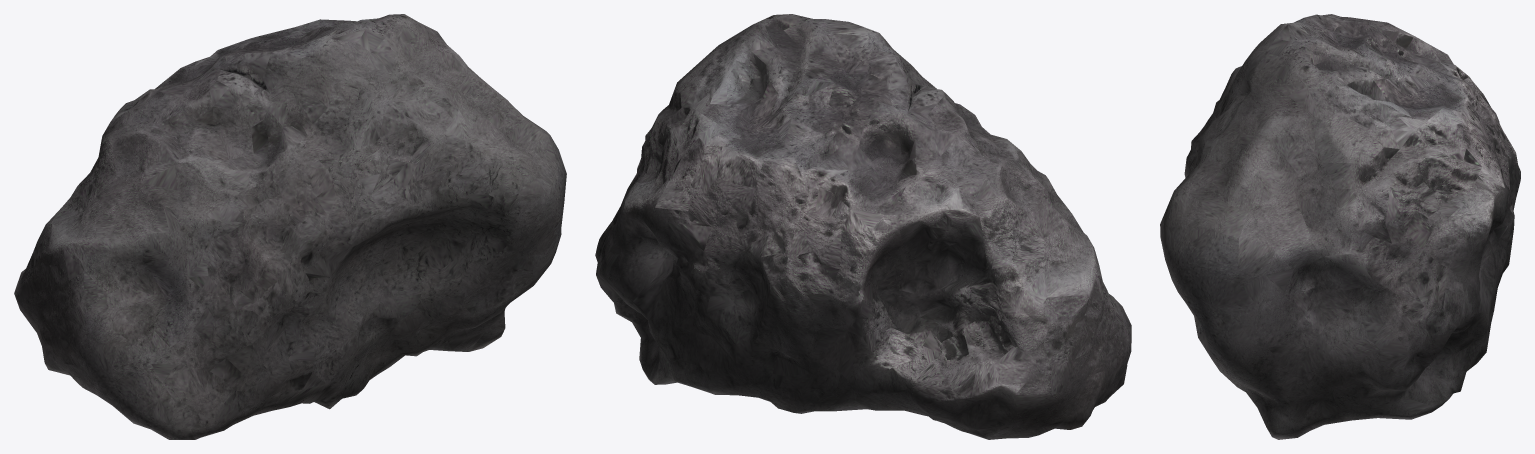
File: RockOre.glb
The picture shows the model from 3 angles, left to right: view 1: azimuth 30°, elevation 25°; view 2: azimuth 150°, elevation 25°; view 3: azimuth 270°, elevation 25°; orthographic projection. The views are drawn at different scales.
Parts seen in each view (by area): view 1: RockOre.001; view 2: RockOre.001; view 3: RockOre.001.
Boxes of the visible parts, x1=… form: RockOre.001: x1=14, y1=14, x2=566, y2=439; RockOre.001: x1=595, y1=14, x2=1131, y2=439; RockOre.001: x1=1160, y1=14, x2=1520, y2=439.
Size of the model in its own units: 0.3309 by 0.2387 by 0.2237.
1 material, 1 textured.
